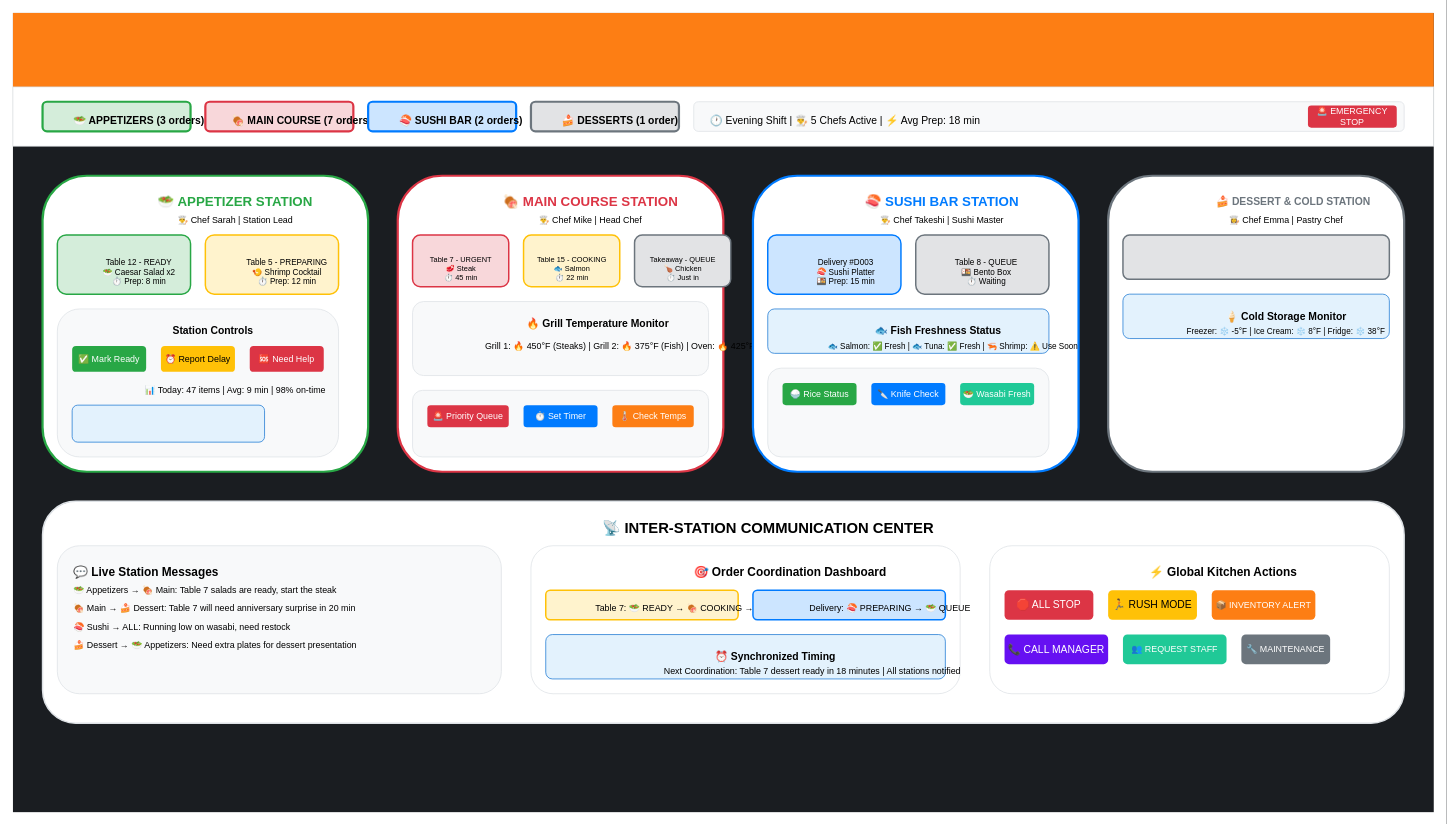
This 1447x824 diagram has some shape labels left out. Each missing label, with the centre of its shape:
"Table 7 - SPECIAL REQUEST 🍰 Anniversary Surprise Dessert | 🕐 For end of meal" goes at [1256,257].
"🏭 KITCHEN STATION MANAGEMENT SYSTEM" goes at [723,50].
"🥬 Lettuce: ✅ | 🧀 Cheese: ⚠️ Low | 🥖 Croutons: ✅" goes at [168,423].
